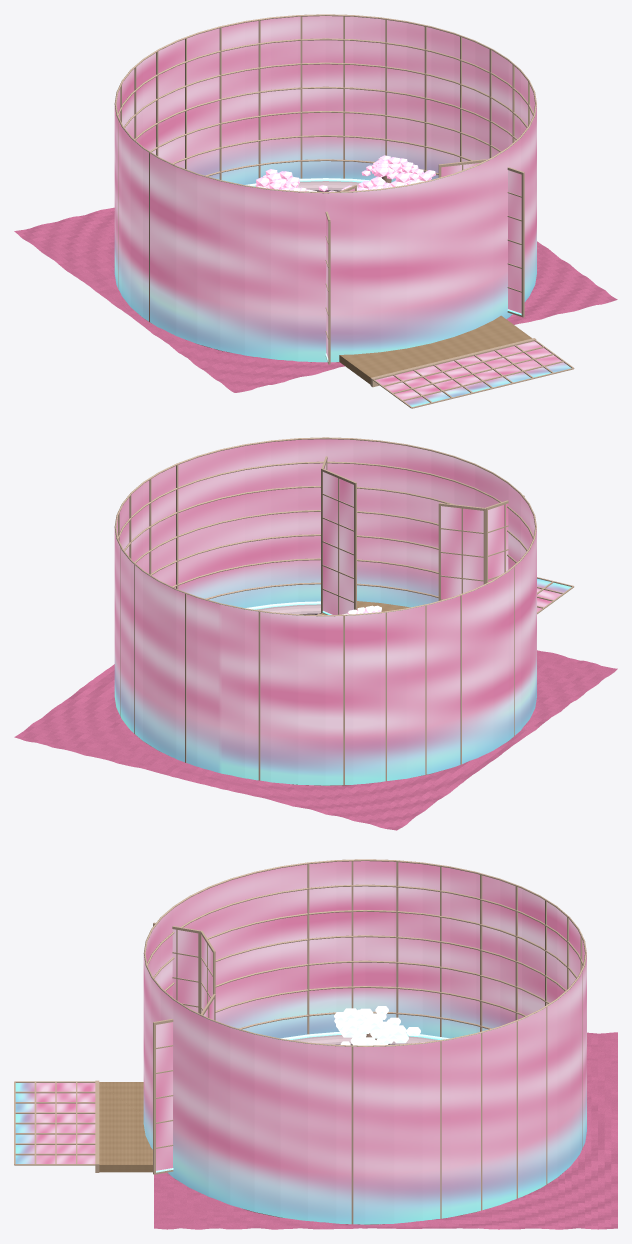
The model's file is stanza zen.glb.
3 views of the same model, one above another, from view 1: azimuth 30°, elevation 25°; view 2: azimuth 150°, elevation 25°; view 3: azimuth 270°, elevation 25° (orthographic). The views are drawn at different scales.
Visible parts, largest first — view 1: Curved_Shoji_Backdrop, Raked_Pink_Gravel, Floor_Shoji_Glass, Tatami_Platform, Torus.007, Cube.052, Bonsai_Right_Pink_Blossoms, Torus.006, Torus.005, Torus.004, Torus.003, Bonsai_Back_Center_Blossoms (+3 smaller); view 2: Curved_Shoji_Backdrop, Raked_Pink_Gravel, Cube.040, Cube.016, Torus.007, Cube.028, Torus.006, Torus.005, Torus.004, Torus.003, Torus.002, Floor_Shoji_Glass; view 3: Curved_Shoji_Backdrop, Raked_Pink_Gravel, Floor_Shoji_Glass, Tatami_Platform, Cube.052, Bonsai_Left_Ice_Blossoms, Torus.007, Cube.028, Torus.006, Torus.005, Torus.004, Torus.003 (+5 smaller).
Boxes of the visible parts, x1,y1,x2,y2 form: Curved_Shoji_Backdrop: (114,16,536,362); Raked_Pink_Gravel: (14,191,617,392); Floor_Shoji_Glass: (375,341,571,406); Tatami_Platform: (339,315,531,384); Torus.007: (114,14,536,193); Cube.052: (508,170,521,313); Bonsai_Right_Pink_Blossoms: (341,155,435,190); Torus.006: (118,38,533,115); Torus.005: (124,62,527,127); Torus.004: (134,86,516,139); Torus.003: (150,111,501,151); Bonsai_Back_Center_Blossoms: (255,169,336,191); Curved_Shoji_Backdrop: (114,439,536,785); Raked_Pink_Gravel: (14,650,617,830); Cube.040: (323,472,353,614); Cube.016: (441,506,483,599); Torus.007: (114,437,536,616); Cube.028: (488,503,508,582); Torus.006: (117,461,533,541); Torus.005: (124,486,527,550); Torus.004: (134,510,517,562); Torus.003: (150,534,438,575); Torus.002: (172,558,438,587); Floor_Shoji_Glass: (537,578,571,611); Curved_Shoji_Backdrop: (143,861,586,1224); Raked_Pink_Gravel: (154,1032,617,1229); Floor_Shoji_Glass: (15,1083,95,1163); Tatami_Platform: (99,1082,152,1172); Cube.052: (156,1022,172,1170); Bonsai_Left_Ice_Blossoms: (334,1006,420,1045); Torus.007: (143,859,586,1046); Cube.028: (172,929,198,1012); Torus.006: (147,884,583,965); Torus.005: (153,910,577,978); Torus.004: (164,935,566,991); Torus.003: (215,960,549,1003).
Bounding box in the file's own units: 9 × 3.91 × 11.72.
11 materials, 3 textured.
